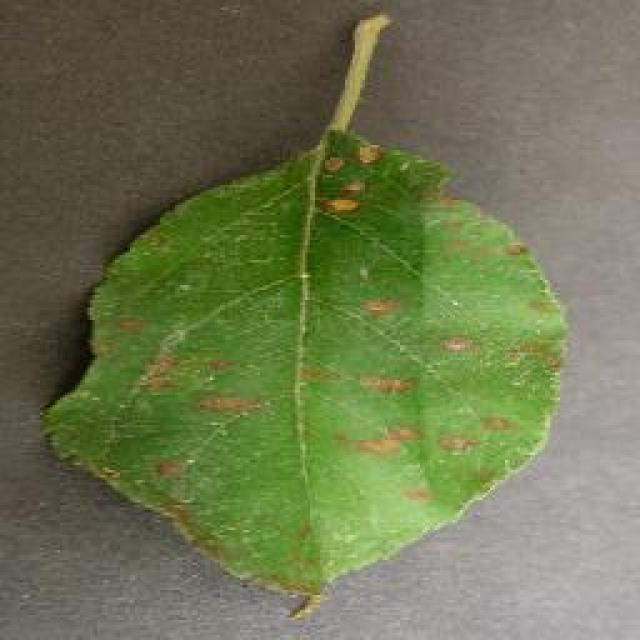apple cedar apple rust: (38, 10, 570, 618)
